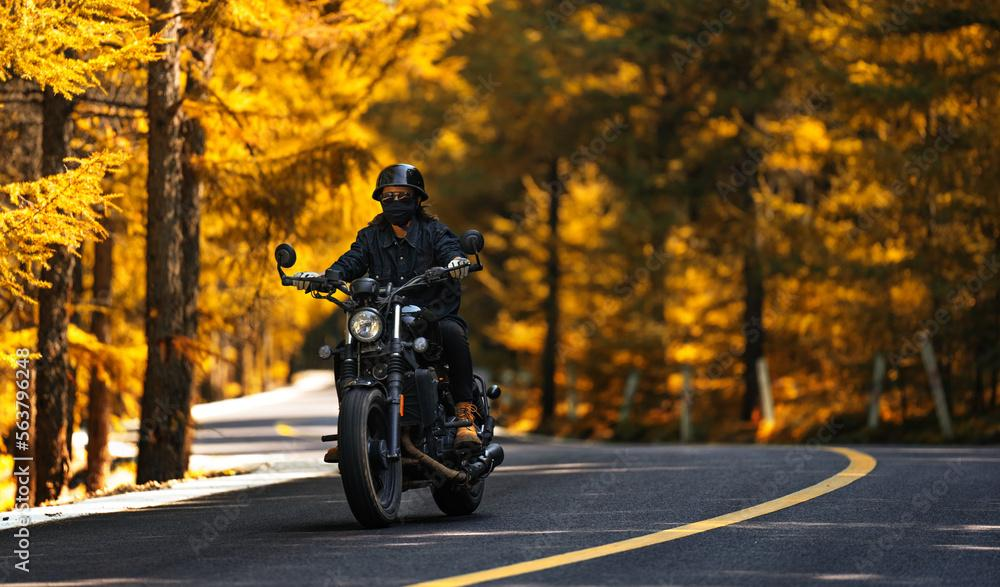helmet: (371, 162, 430, 227)
